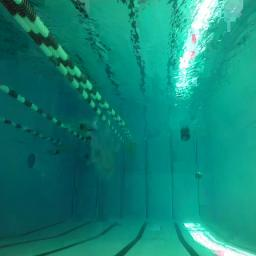Side: (180, 130, 189, 139)
front: (196, 171, 202, 177)
